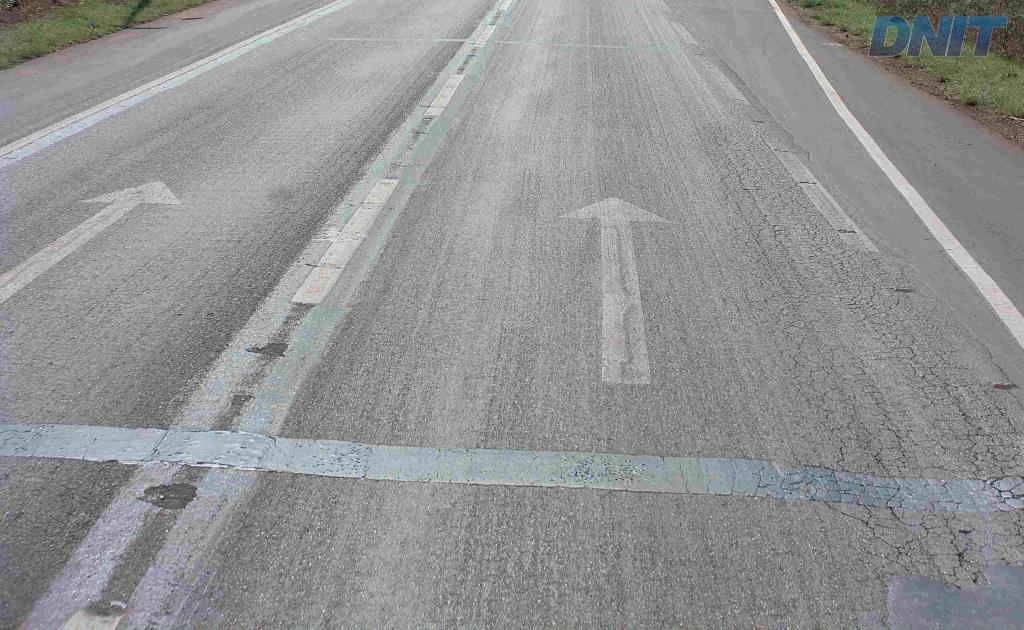crack: (967, 451, 1023, 503)
